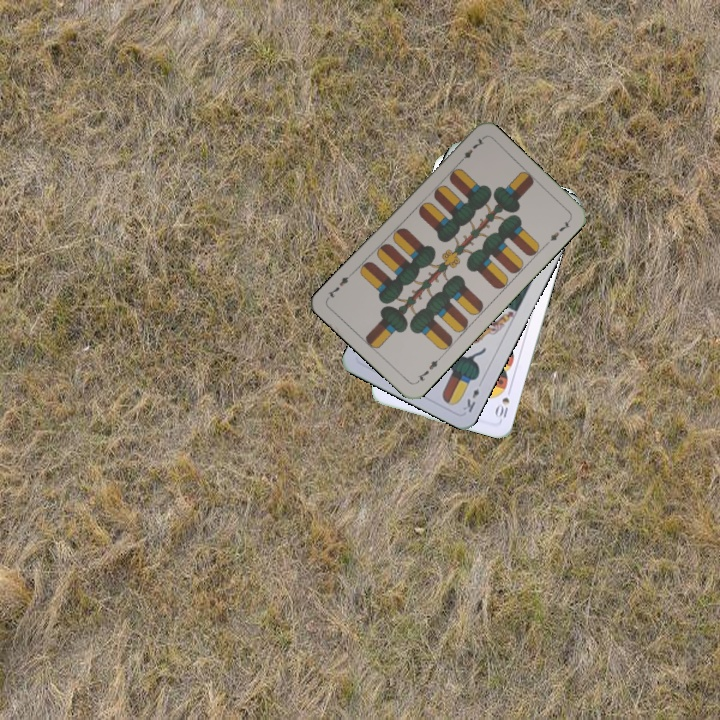E7: (454, 134, 487, 167), (412, 353, 444, 386)
EK: (459, 385, 482, 415)
S10: (492, 383, 514, 423)
